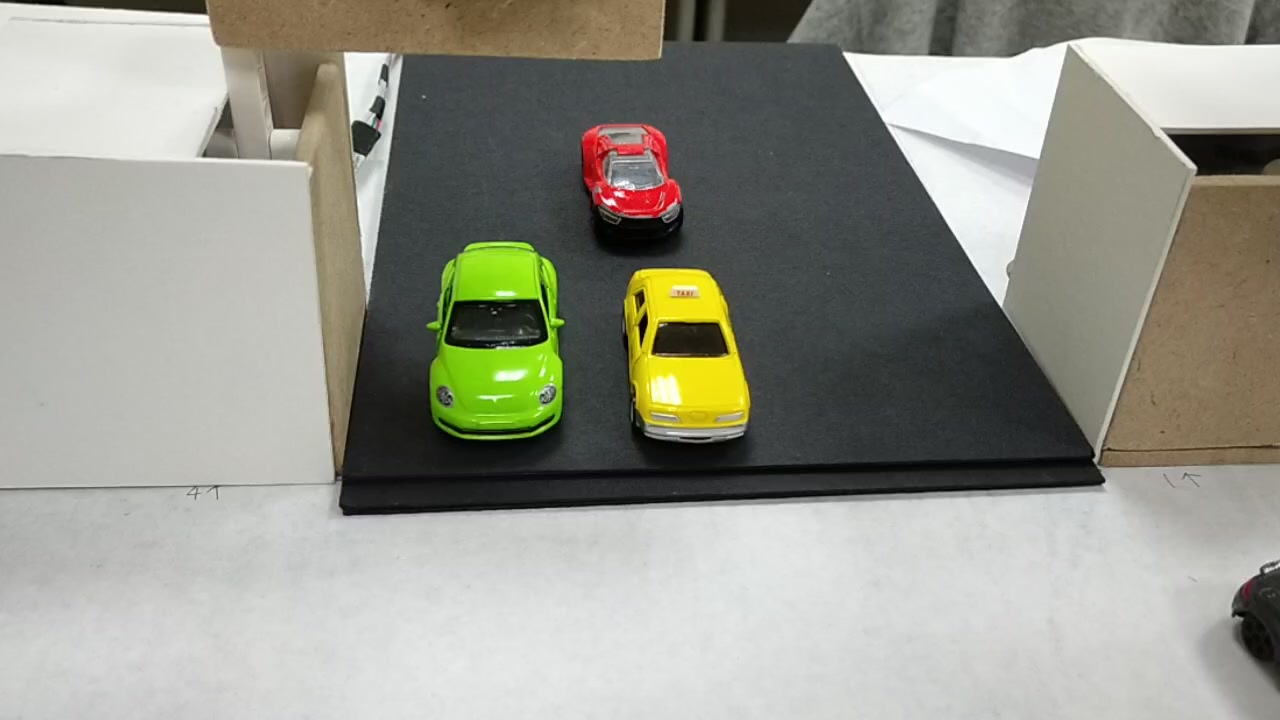car: (435, 250, 563, 430), (621, 275, 757, 441), (573, 123, 685, 241)
